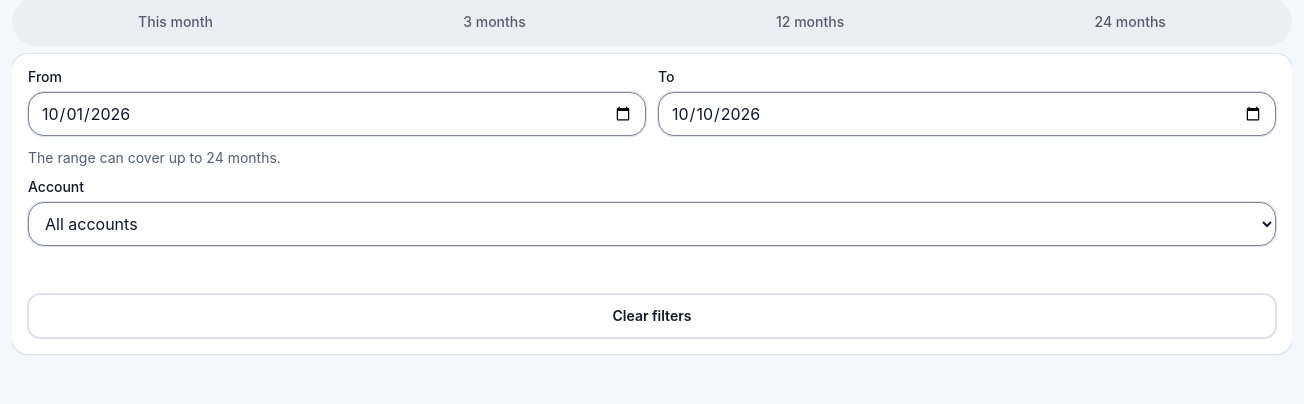
ReportFilters › refuses an end date after today locally and says so (L1)
The image size is (1304, 404).
Type "2026-10-13" into the date field labelled "To" at (967, 114), box [658,92,1276,136]
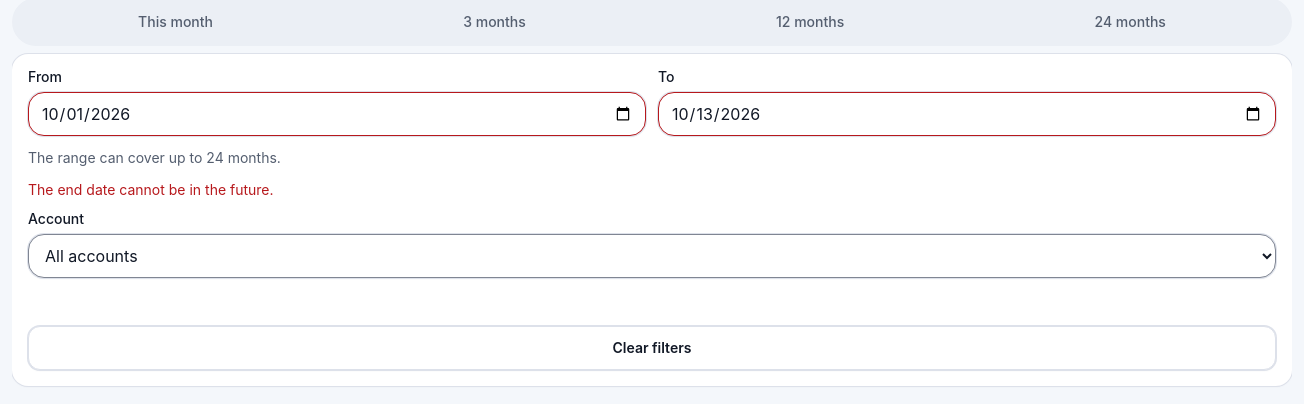
expect the text "The end date cannot be in the future." is shown: met, box [28,181,274,198]
